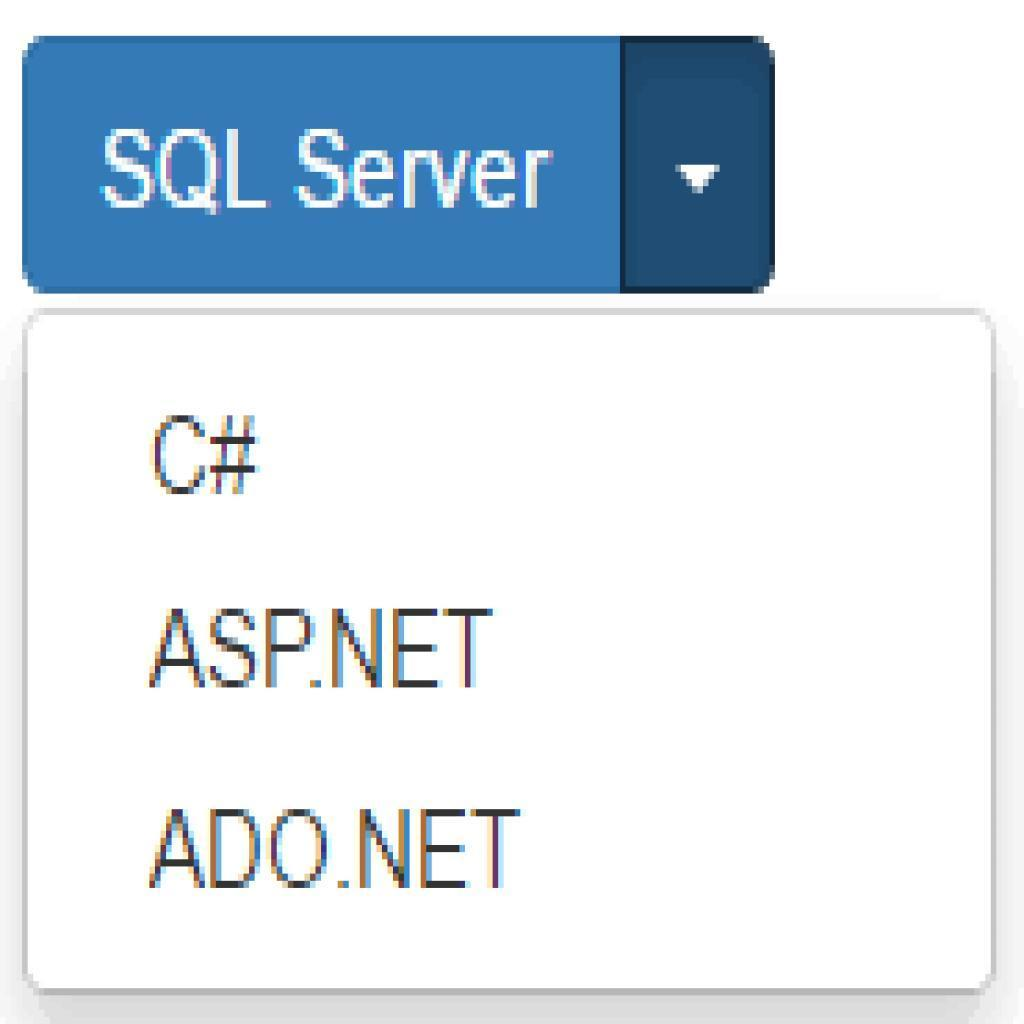dropdown: (30, 38, 772, 292)
